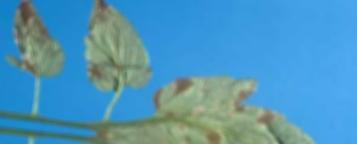Tomato mold leaf: (94, 56, 357, 144), (65, 0, 161, 101), (0, 0, 73, 81)
